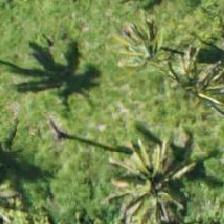coconut_tree: (106, 1, 196, 91), (135, 23, 223, 113), (111, 138, 201, 223)
